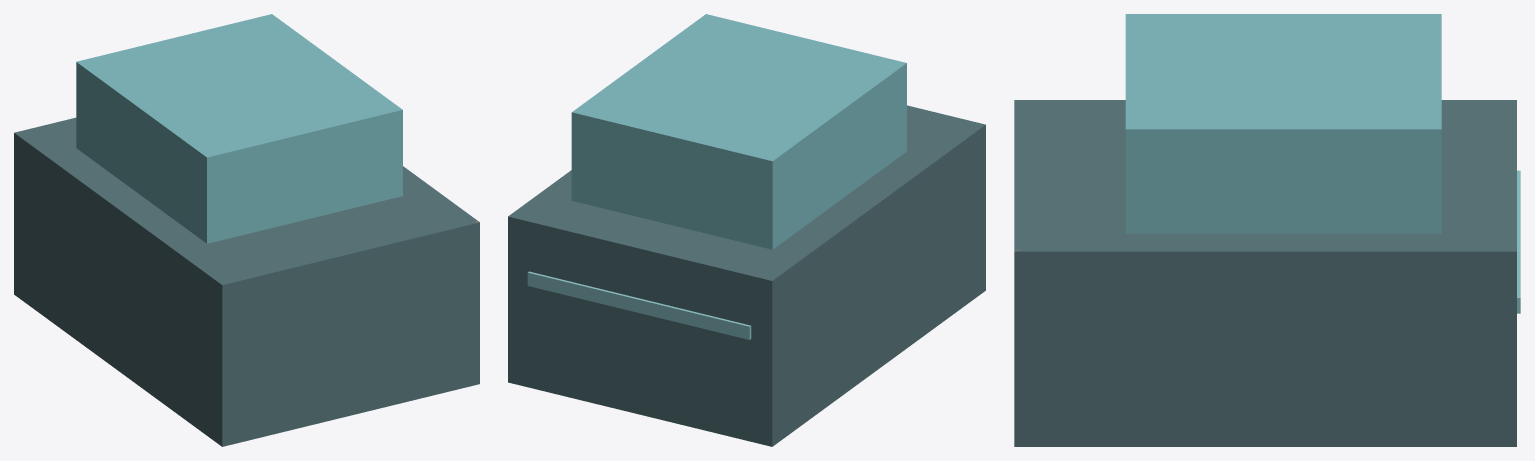
The model's file is visual-far.glb.
3 renders of one model, left to right at view 1: azimuth 30°, elevation 25°; view 2: azimuth 150°, elevation 25°; view 3: azimuth 270°, elevation 25°, orthographic. The views are drawn at different scales.
Visible parts, largest first — view 1: 原三盒载具代理尺寸派生; view 2: 原三盒载具代理尺寸派生; view 3: 原三盒载具代理尺寸派生.
Boxes of the visible parts, x1=… form: 原三盒载具代理尺寸派生: x1=14, y1=14, x2=479, y2=446; 原三盒载具代理尺寸派生: x1=508, y1=14, x2=985, y2=446; 原三盒载具代理尺寸派生: x1=1014, y1=14, x2=1520, y2=446.
Bounding box in the file's own units: 2.5 × 2.3 × 3.52.
4 materials, 4 textured.
